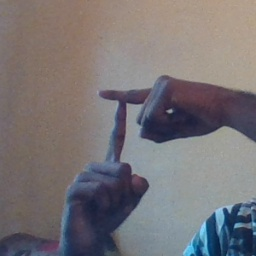T: (82, 69, 165, 187)
